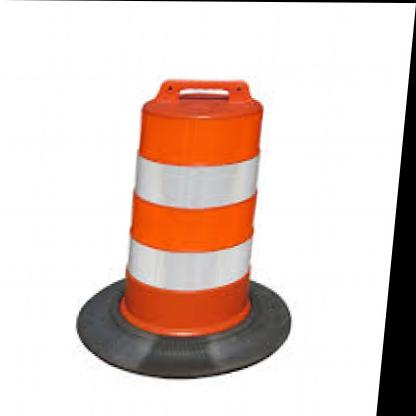obstacle: (114, 73, 285, 347)
